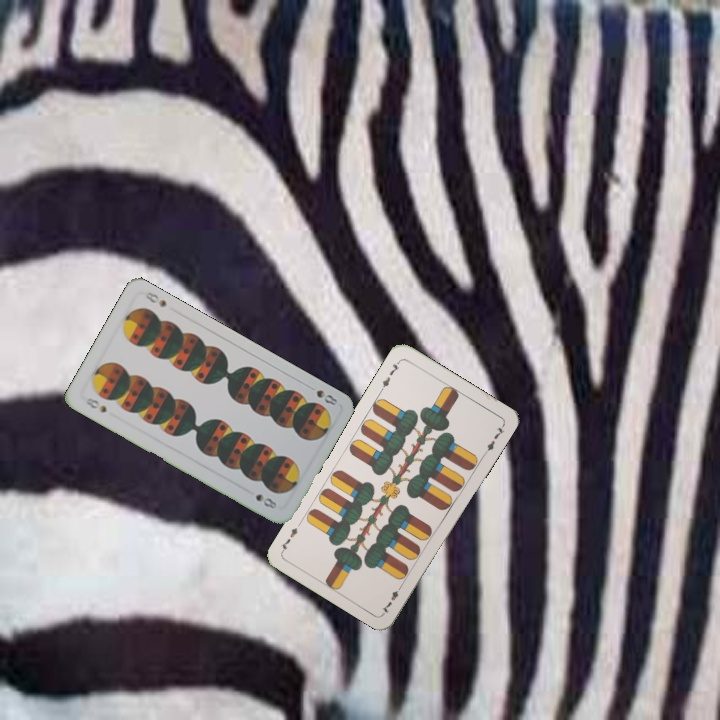E7: (377, 579, 405, 616), (376, 357, 403, 393)
S8: (303, 381, 340, 408), (81, 394, 109, 415)
